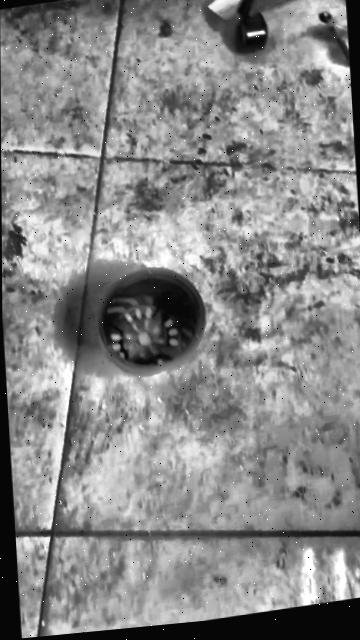pot: (96, 263, 208, 380)
